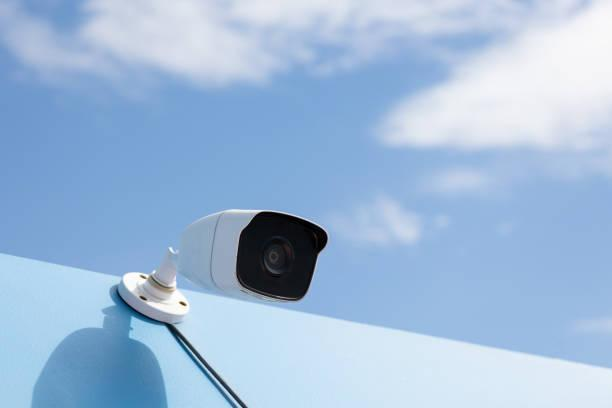camera: (139, 204, 343, 321)
